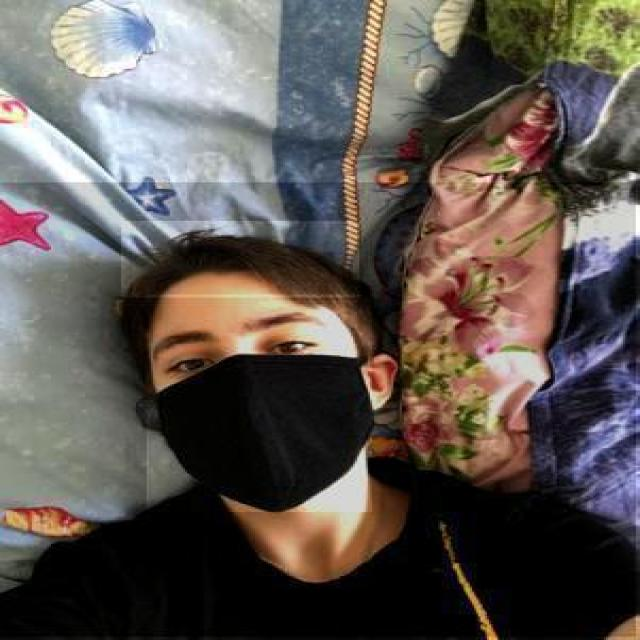face_mask: (147, 294, 372, 512)
head_nohelmet: (122, 220, 360, 298)
person: (0, 182, 638, 638)
